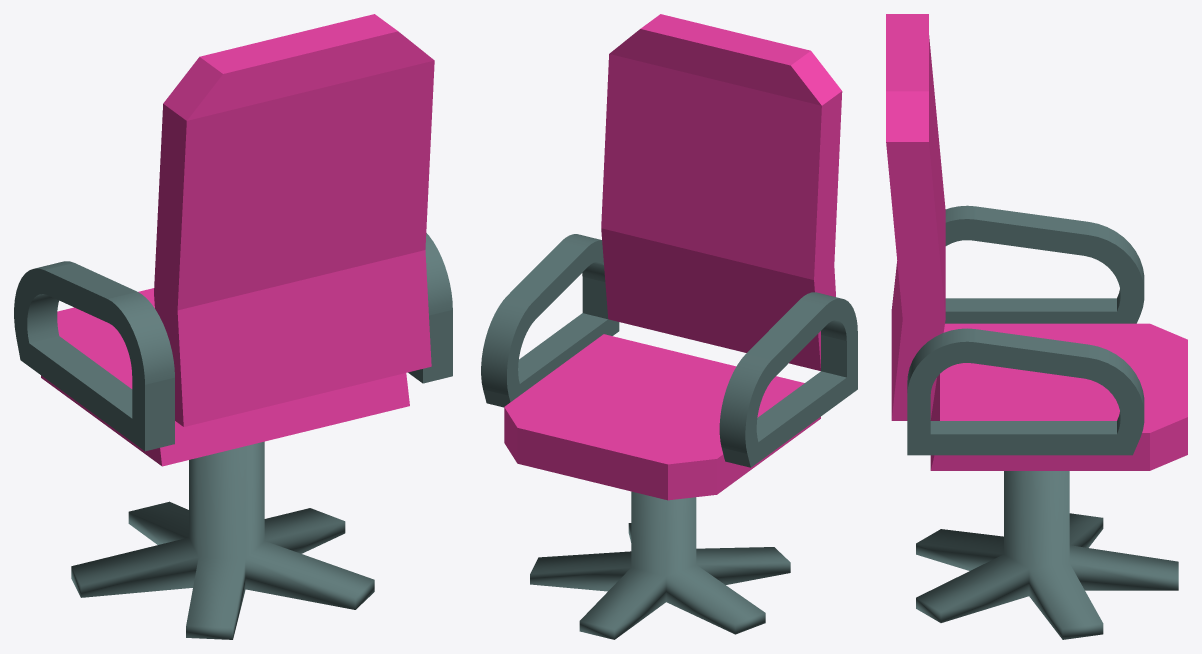
File: chair.glb
The picture shows the model from 3 angles, left to right: view 1: azimuth 30°, elevation 25°; view 2: azimuth 150°, elevation 25°; view 3: azimuth 270°, elevation 25°; orthographic projection. The views are drawn at different scales.
Parts seen in each view (by area): view 1: chairDesk; view 2: chairDesk; view 3: chairDesk.
Boxes of the visible parts, <box> form: chairDesk: <box>14,14,452,639</box>; chairDesk: <box>481,14,857,639</box>; chairDesk: <box>886,14,1187,639</box>.
Size of the model in its own units: 0.335 by 0.6076 by 0.3143.
